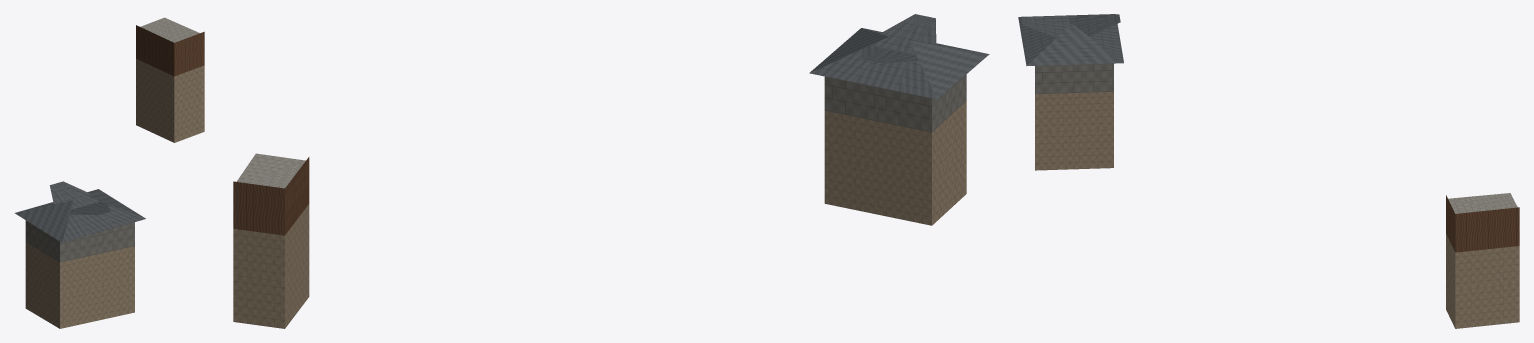
The model's file is bld_c37_-28_437.gltf.
The picture shows the model from 3 angles, left to right: view 1: azimuth 30°, elevation 25°; view 2: azimuth 150°, elevation 25°; view 3: azimuth 270°, elevation 25°; orthographic projection. The views are drawn at different scales.
Parts seen in each view (by area): view 1: bld_c37_-28_437; view 2: bld_c37_-28_437; view 3: bld_c37_-28_437.
Part boxes in pixels (bbox=[...]): bld_c37_-28_437: bbox=[14, 17, 204, 328]; bld_c37_-28_437: bbox=[233, 14, 989, 328]; bld_c37_-28_437: bbox=[1018, 14, 1519, 328].
Size of the model in its own units: 23.95 by 8.6 by 26.79.
6 materials, 6 textured.
